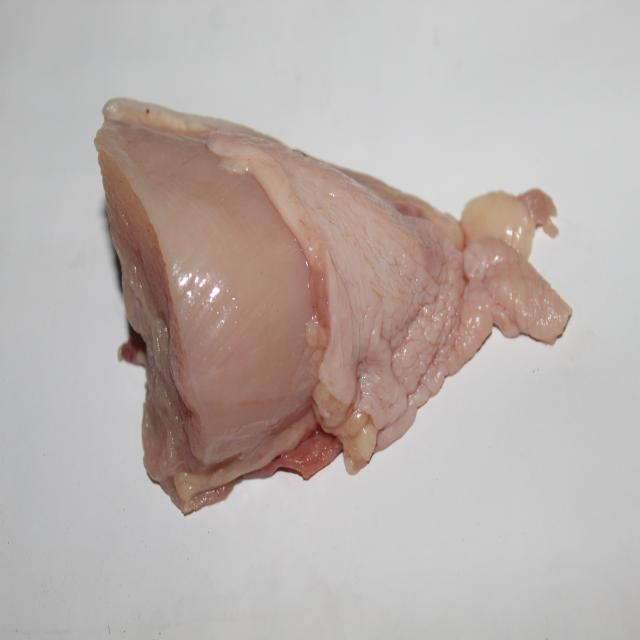chicken: (98, 97, 571, 510)
